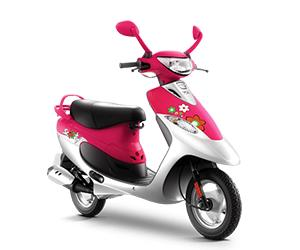motorbike: (47, 20, 243, 241)
